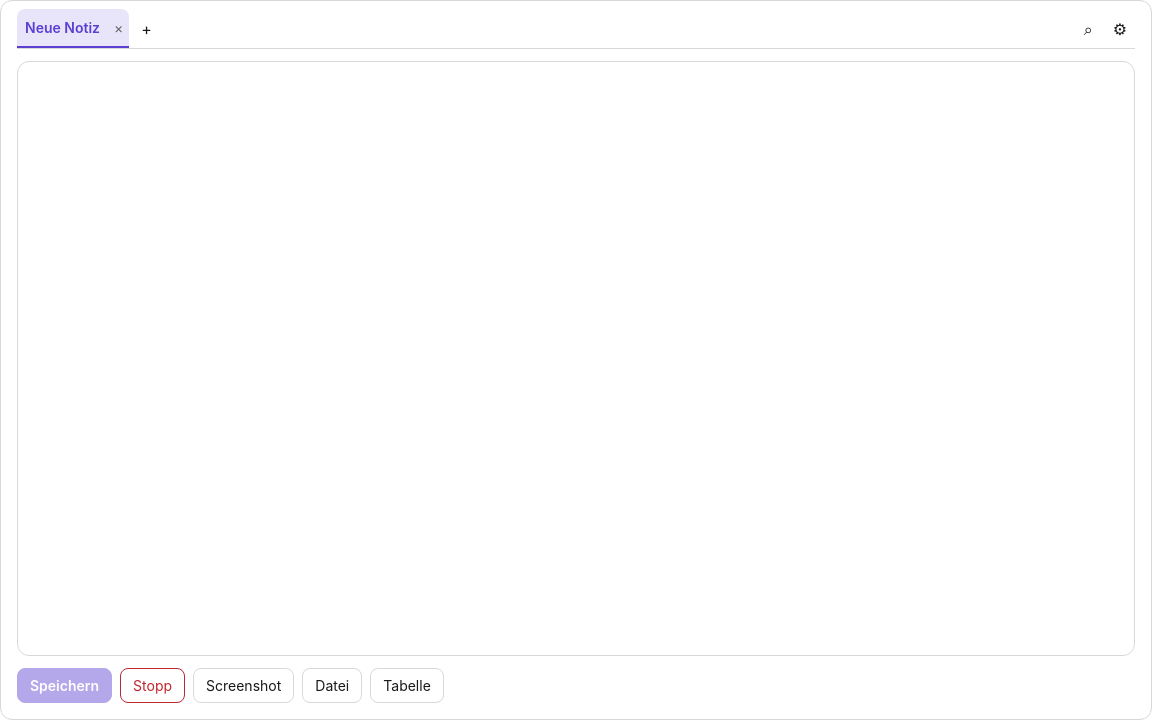
Test: CaptureView › global hotkey request › a recording started by the hotkey is stopped by the next hotkey after a tab switch
expect the button "Stopp" is shown: met, box [120, 668, 185, 703]
What coordinates should you click on to do the following:
click the button named "Suche"
I would click on:
 (1088, 28)
Its box is [1076, 16, 1101, 40].
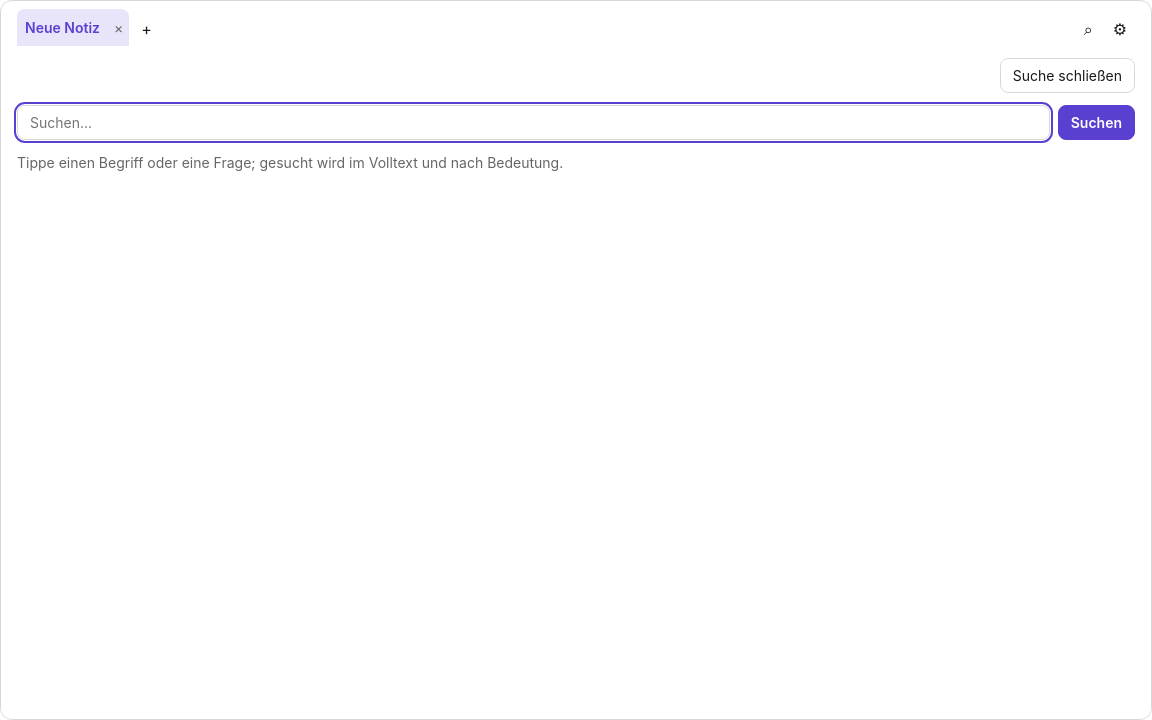
What coordinates should you click on to do the following:
click the button named "Neue Notiz"
I would click on:
 (147, 28)
Its box is [133, 16, 160, 40].
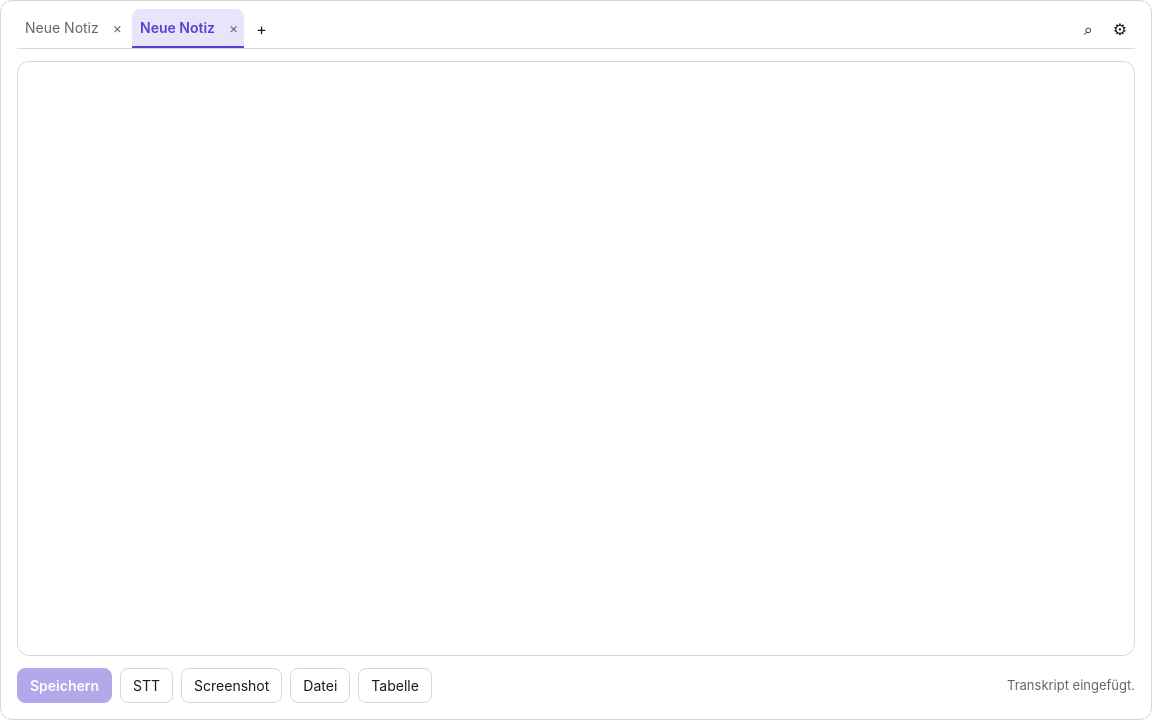
expect the number of tabs is 2: met, box [17, 9, 107, 46]; [132, 9, 223, 46]
expect the message reads "Transkript eingefügt.": met, box [1007, 677, 1135, 693]
